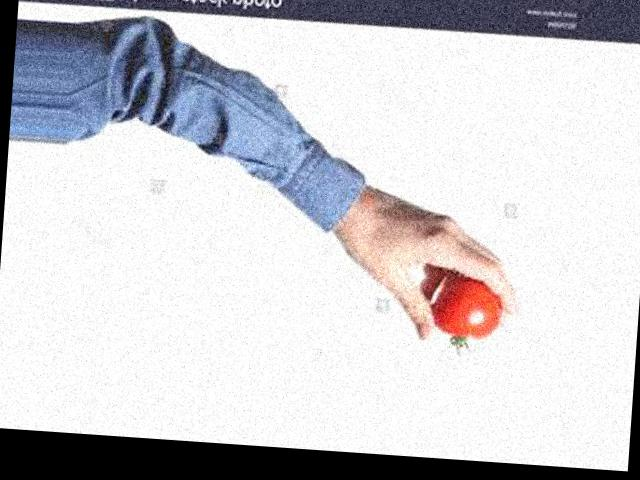tomato: (433, 278, 504, 338)
